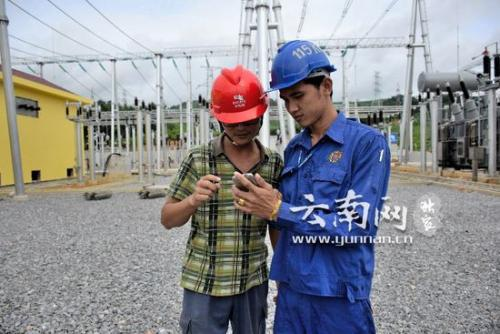helmet: (266, 31, 343, 130), (202, 59, 267, 153)
